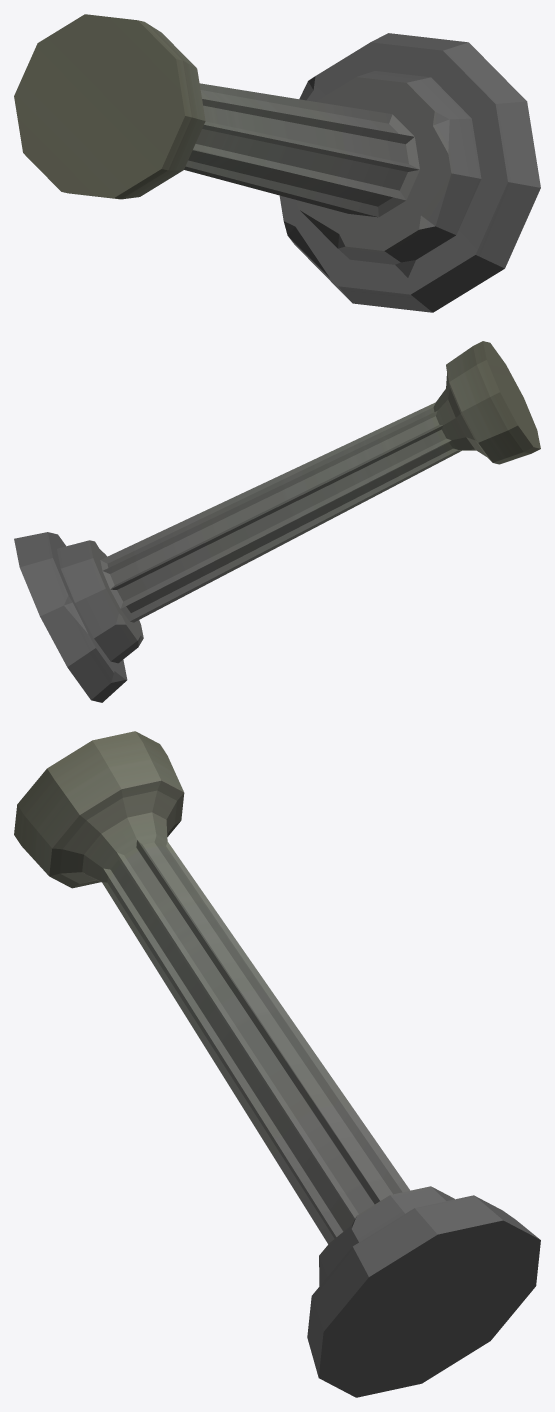
The model's file is ea_bld_column_01c_pre_2_lev1.glb.
3 views of the same model, one above another, from view 1: azimuth 30°, elevation 25°; view 2: azimuth 150°, elevation 25°; view 3: azimuth 270°, elevation 25° (orthographic). The views are drawn at different scales.
Parts seen in each view (by area): view 1: ea_bld_column_01c_pre_2_lev1; view 2: ea_bld_column_01c_pre_2_lev1; view 3: ea_bld_column_01c_pre_2_lev1.
Part boxes in pixels (x1,y1,x2,y2): ea_bld_column_01c_pre_2_lev1: (14,14,540,312); ea_bld_column_01c_pre_2_lev1: (14,341,540,702); ea_bld_column_01c_pre_2_lev1: (14,731,540,1397).
Bounding box in the file's own units: 6.06 × 4.66 × 4.76.
Materials: 1 (1 with a texture image).
